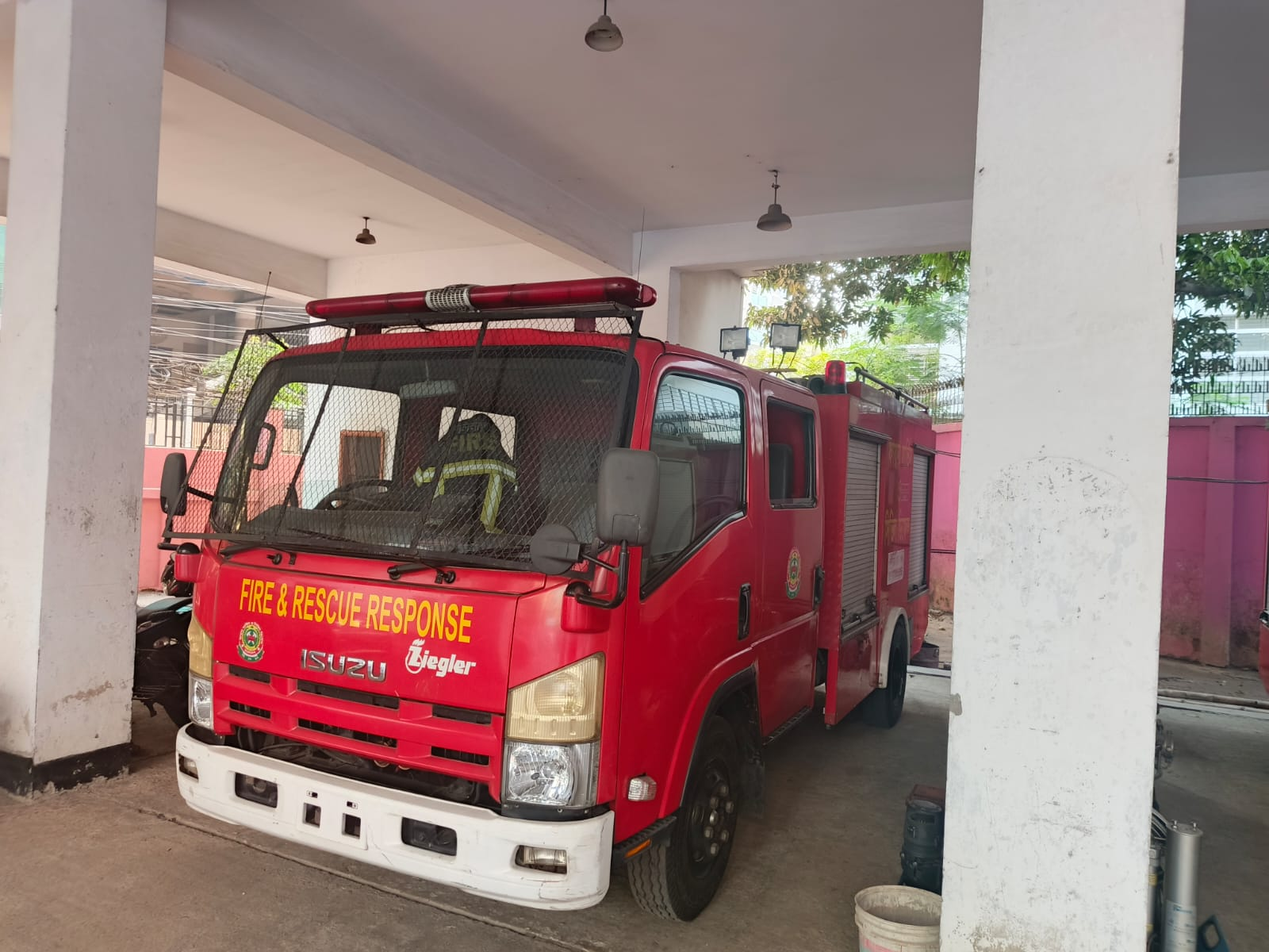Fire truck: (143, 271, 941, 929)
